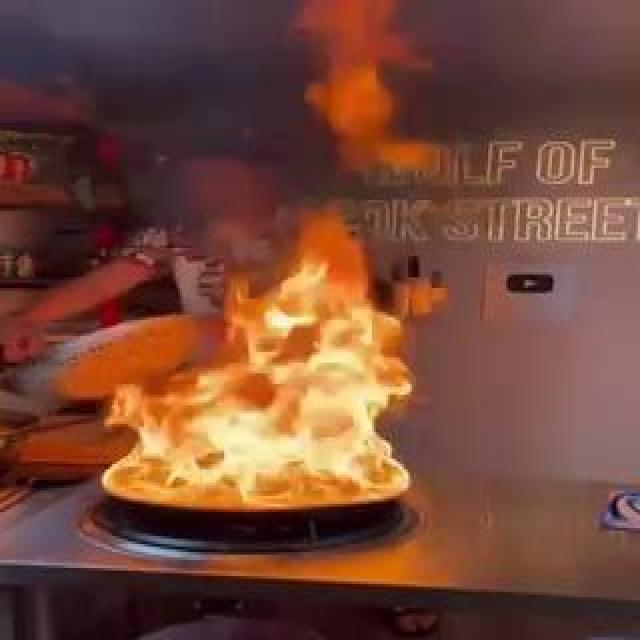Fire: (258, 324, 358, 382)
